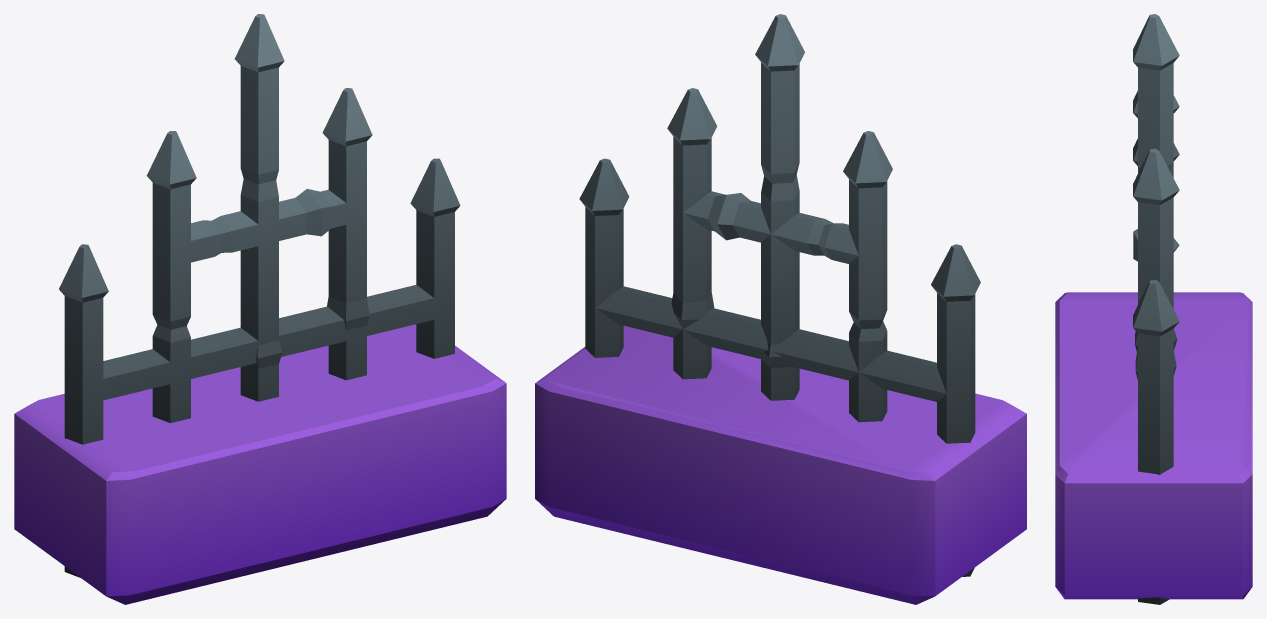
The model's file is Wall_w_IronFence.fbx.
The picture shows the model from 3 angles, left to right: view 1: azimuth 30°, elevation 25°; view 2: azimuth 150°, elevation 25°; view 3: azimuth 270°, elevation 25°; orthographic projection. The views are drawn at different scales.
Visible parts, largest first — view 1: Wall_w_IronFenceMesh.001; view 2: Wall_w_IronFenceMesh.001; view 3: Wall_w_IronFenceMesh.001.
Boxes of the visible parts, <box> form: Wall_w_IronFenceMesh.001: <box>14,14,506,604</box>; Wall_w_IronFenceMesh.001: <box>535,14,1026,604</box>; Wall_w_IronFenceMesh.001: <box>1055,14,1252,604</box>.
Size of the model in its own units: 455 by 556 by 200.
